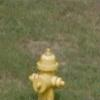Hydrant: (26, 42, 73, 100)
